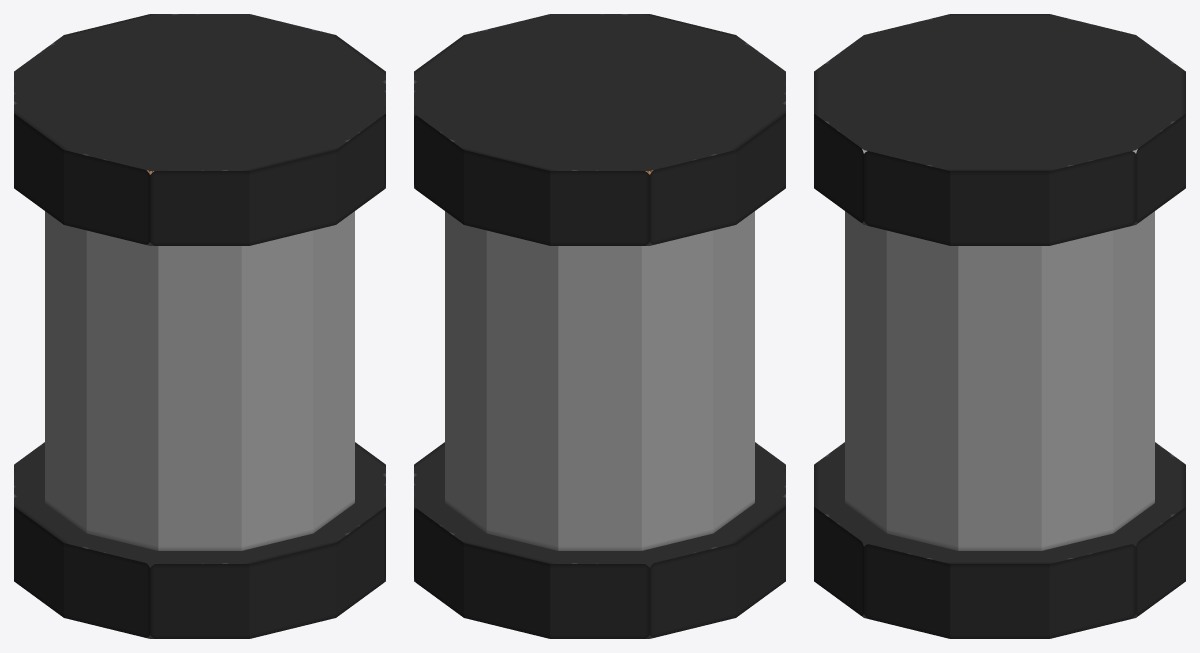
The model's file is canisteritem.fbx.
3 views of the same model, side by side, from view 1: azimuth 30°, elevation 25°; view 2: azimuth 150°, elevation 25°; view 3: azimuth 270°, elevation 25° (orthographic).
Visible parts, largest first — view 1: outside, top, bottom; view 2: outside, top, bottom; view 3: outside, top, bottom.
Boxes of the visible parts, bbox=[...] form: outside: bbox=[45, 170, 354, 550]; top: bbox=[14, 14, 385, 245]; bottom: bbox=[14, 442, 385, 638]; outside: bbox=[445, 170, 754, 550]; top: bbox=[414, 14, 785, 245]; bottom: bbox=[414, 442, 785, 638]; outside: bbox=[845, 149, 1154, 550]; top: bbox=[814, 14, 1185, 245]; bottom: bbox=[814, 442, 1185, 638].
Size of the model in its own units: 112 by 156 by 112.
Materials: 4 (4 with a texture image).
